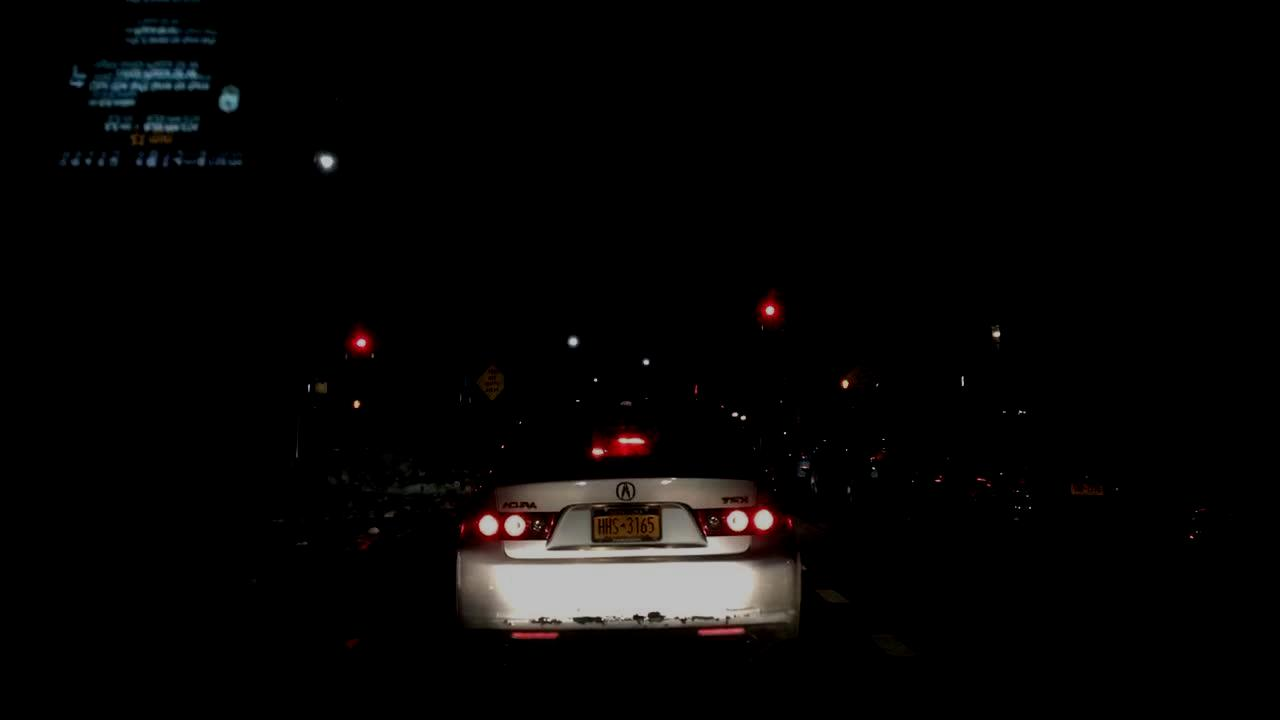acura: (615, 478, 644, 505)
